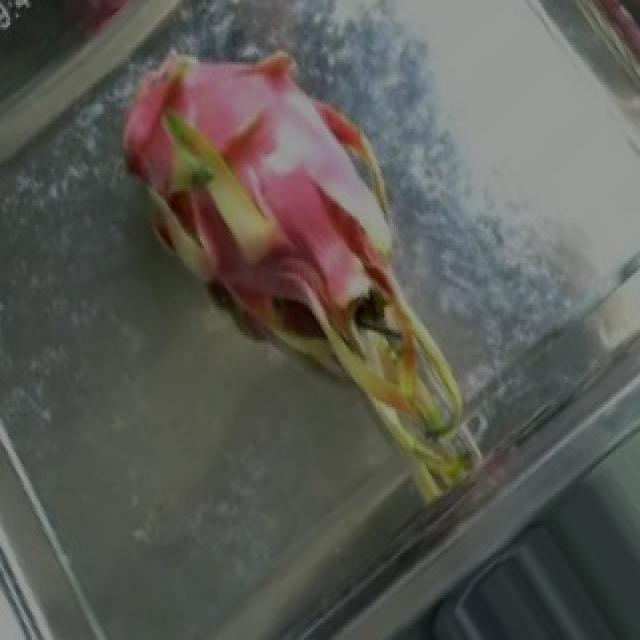fruit: (48, 5, 484, 461)
